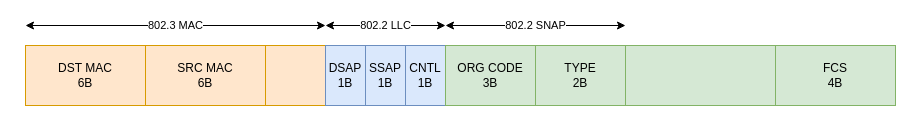
The diagram is 913 pixels wide and 123 high, and some of its shapes have lost their labels. Here are the shapes that lost their labels. From the top down, the centre of each, then its label:
At pixel 295 75: "LENGTH 2B".
At pixel 700 75: "PAYLOAD 38B~1492B".
